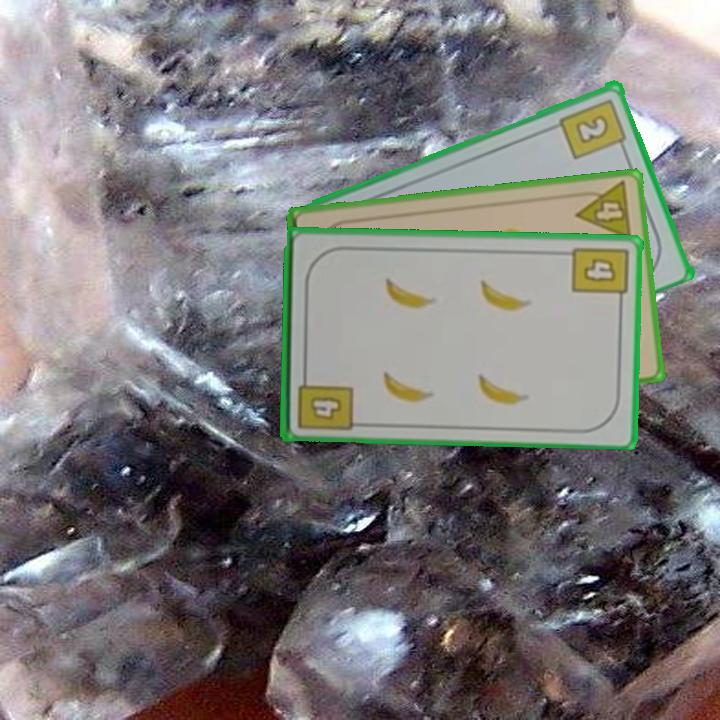2b: (556, 95, 630, 162)
4b: (293, 367, 355, 433), (568, 243, 630, 308)
4p: (570, 178, 634, 243)
